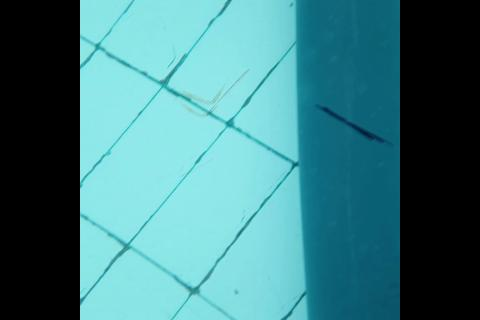keretakan: (312, 101, 396, 147)
